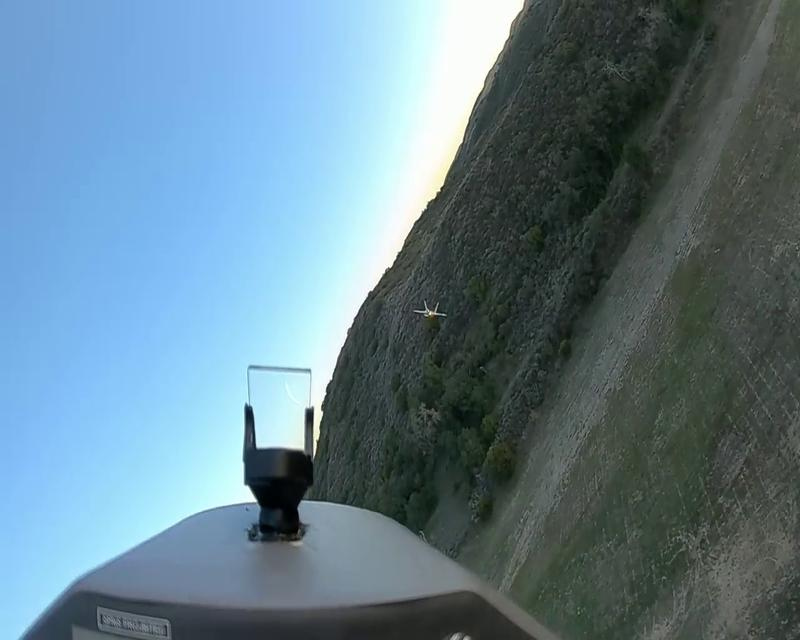UAV: (412, 299, 448, 320)
